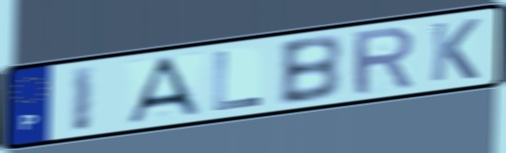A: (123, 54, 205, 127)
B: (276, 33, 345, 108)
I: (69, 62, 98, 135)
K: (428, 16, 483, 84)
L: (211, 49, 265, 114)
R: (349, 23, 417, 99)
